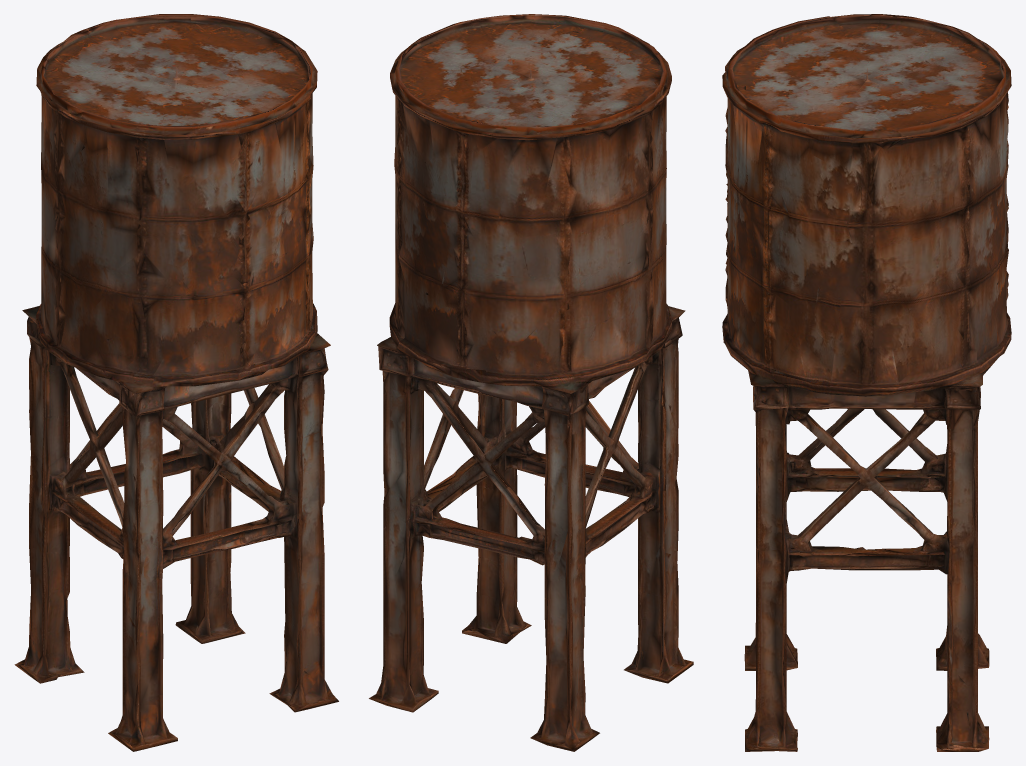
Rendered from wt_rust.glb.
3 views of the same model, side by side, from view 1: azimuth 30°, elevation 25°; view 2: azimuth 150°, elevation 25°; view 3: azimuth 270°, elevation 25° (orthographic). The views are drawn at different scales.
Visible parts, largest first — view 1: wt_rust; view 2: wt_rust; view 3: wt_rust.
Boxes of the visible parts, x1,y1,x2,y2 form: wt_rust: [14, 14, 338, 751]; wt_rust: [369, 14, 693, 751]; wt_rust: [722, 14, 1011, 751].
Bounding box in the file's own units: 79.27 × 191 × 79.24.
Materials: 1 (1 with a texture image).
